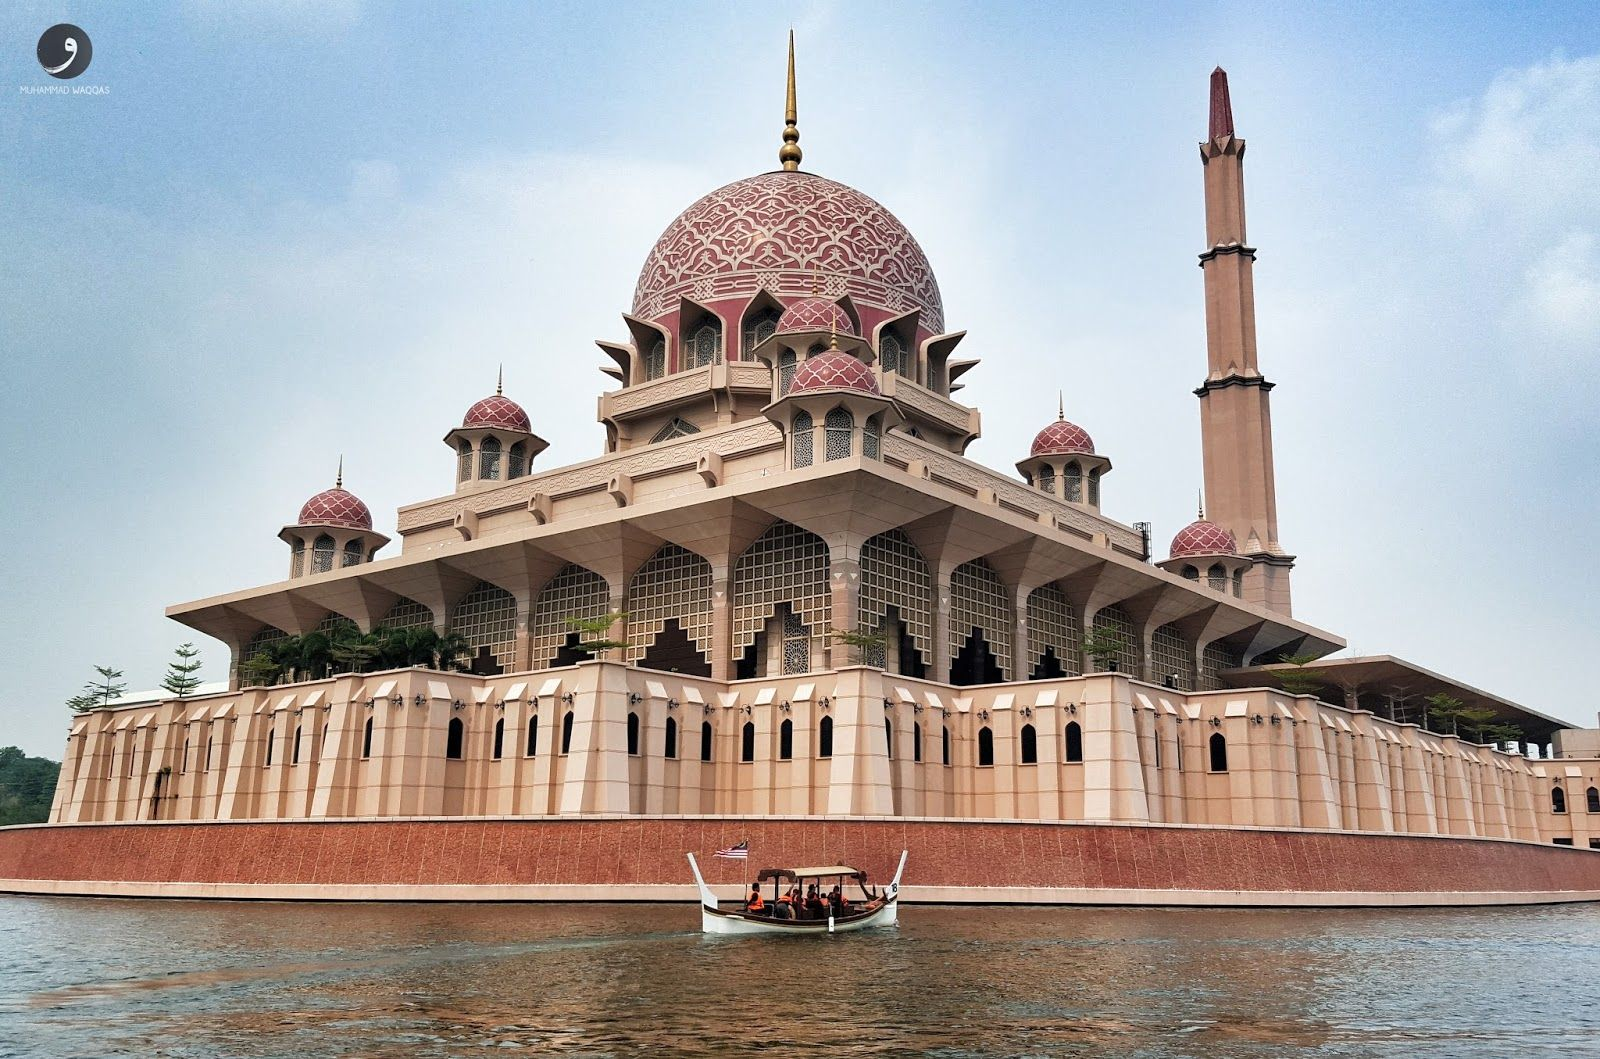Mosque: (176, 47, 1300, 860)
